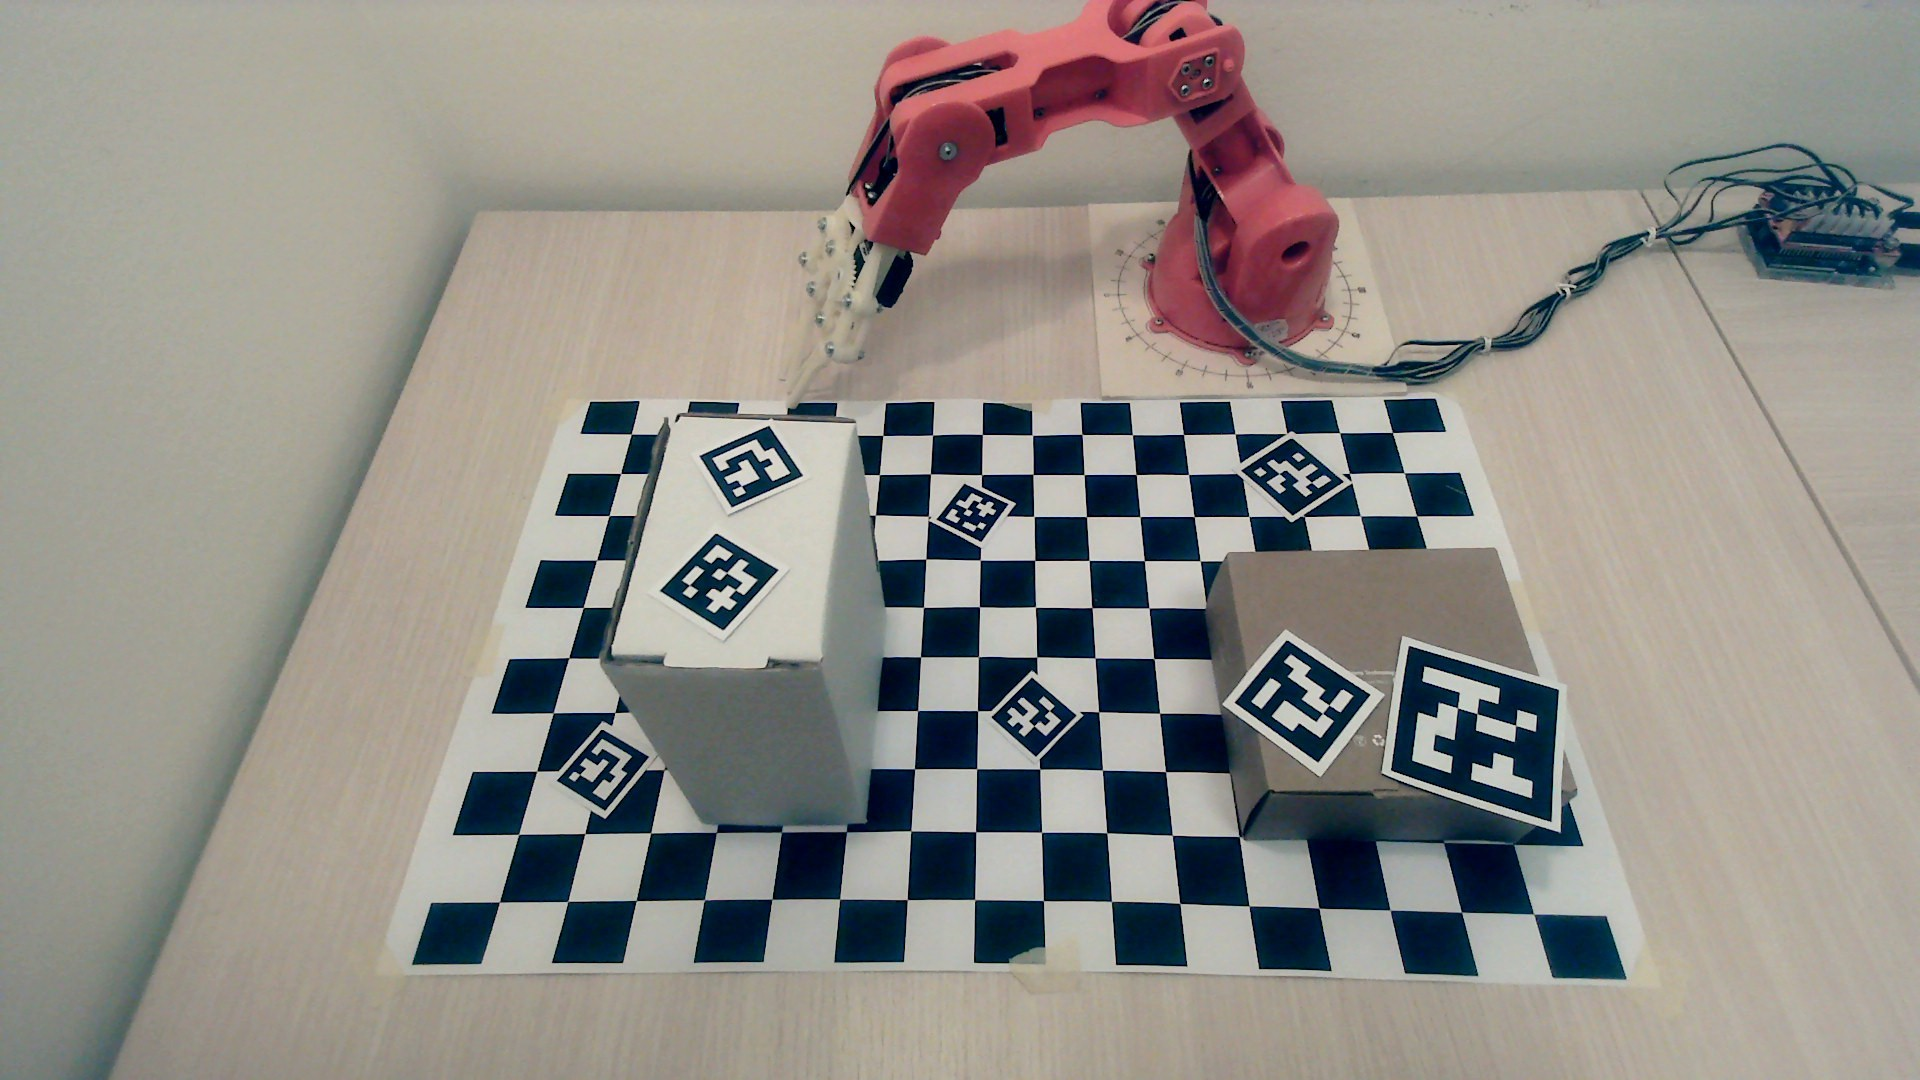marker: (1386, 646, 1567, 827), (1232, 636, 1367, 767), (654, 531, 778, 637), (698, 421, 803, 514), (1244, 433, 1341, 524), (553, 727, 649, 816), (992, 676, 1079, 760), (938, 484, 1009, 547)
